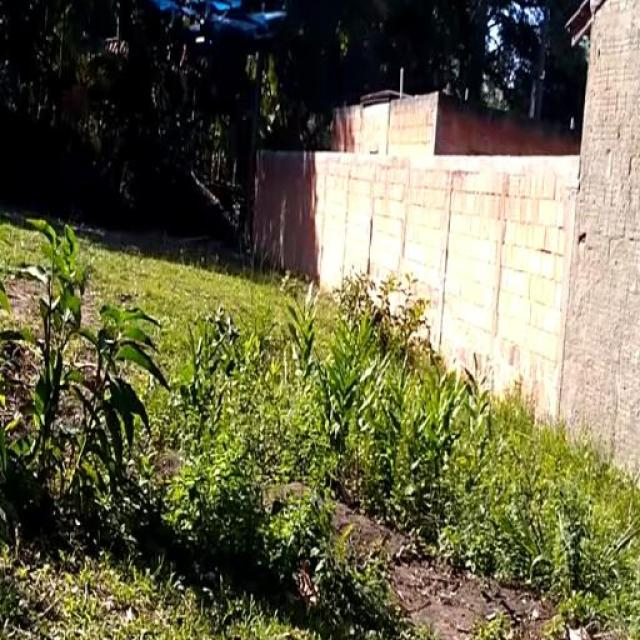bird: (162, 0, 279, 99)
